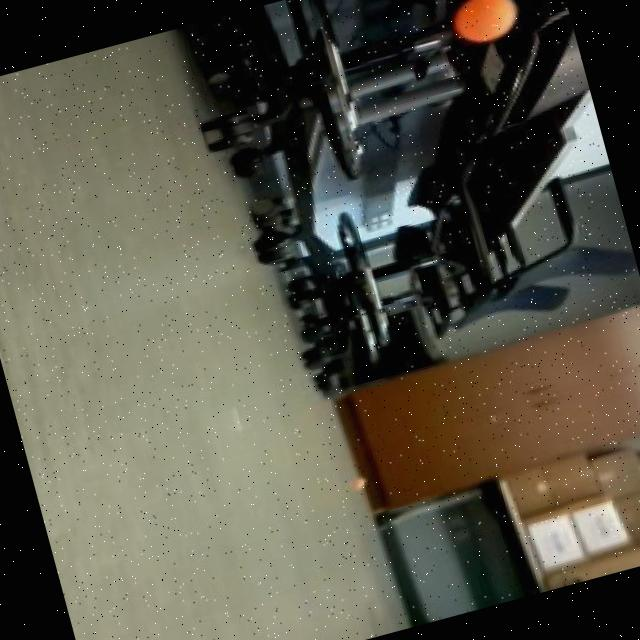ping-pong-ball: (446, 0, 519, 50)
